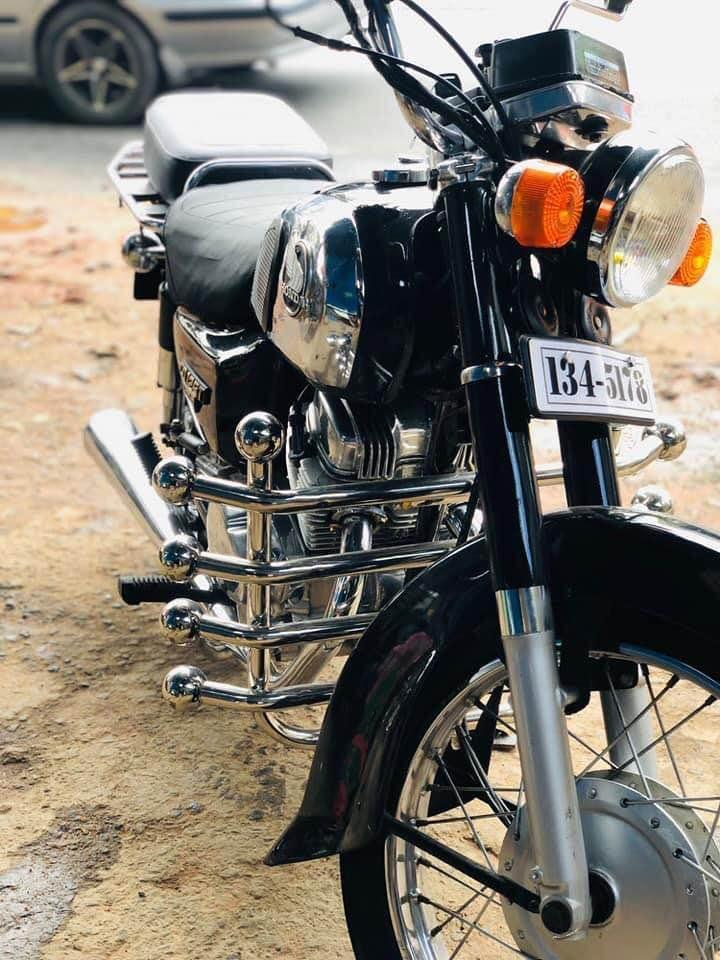motorbike: (82, 1, 720, 960)
